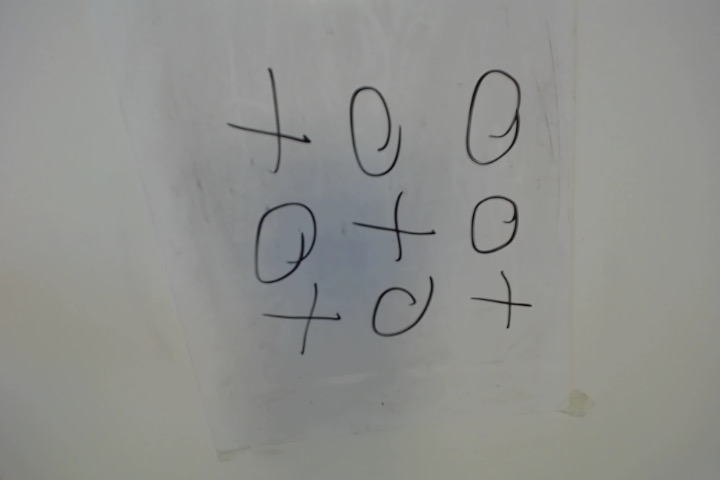0: (465, 63, 522, 167), (249, 201, 322, 282), (345, 83, 405, 180), (367, 273, 444, 340), (470, 189, 518, 255)
x: (236, 71, 309, 170), (349, 188, 440, 261), (268, 292, 347, 352), (472, 269, 537, 333)
